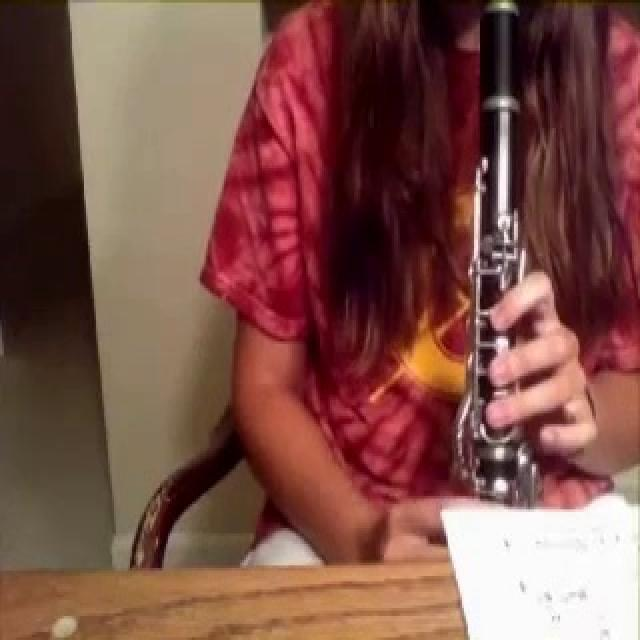Clarinet: (458, 0, 552, 504)
